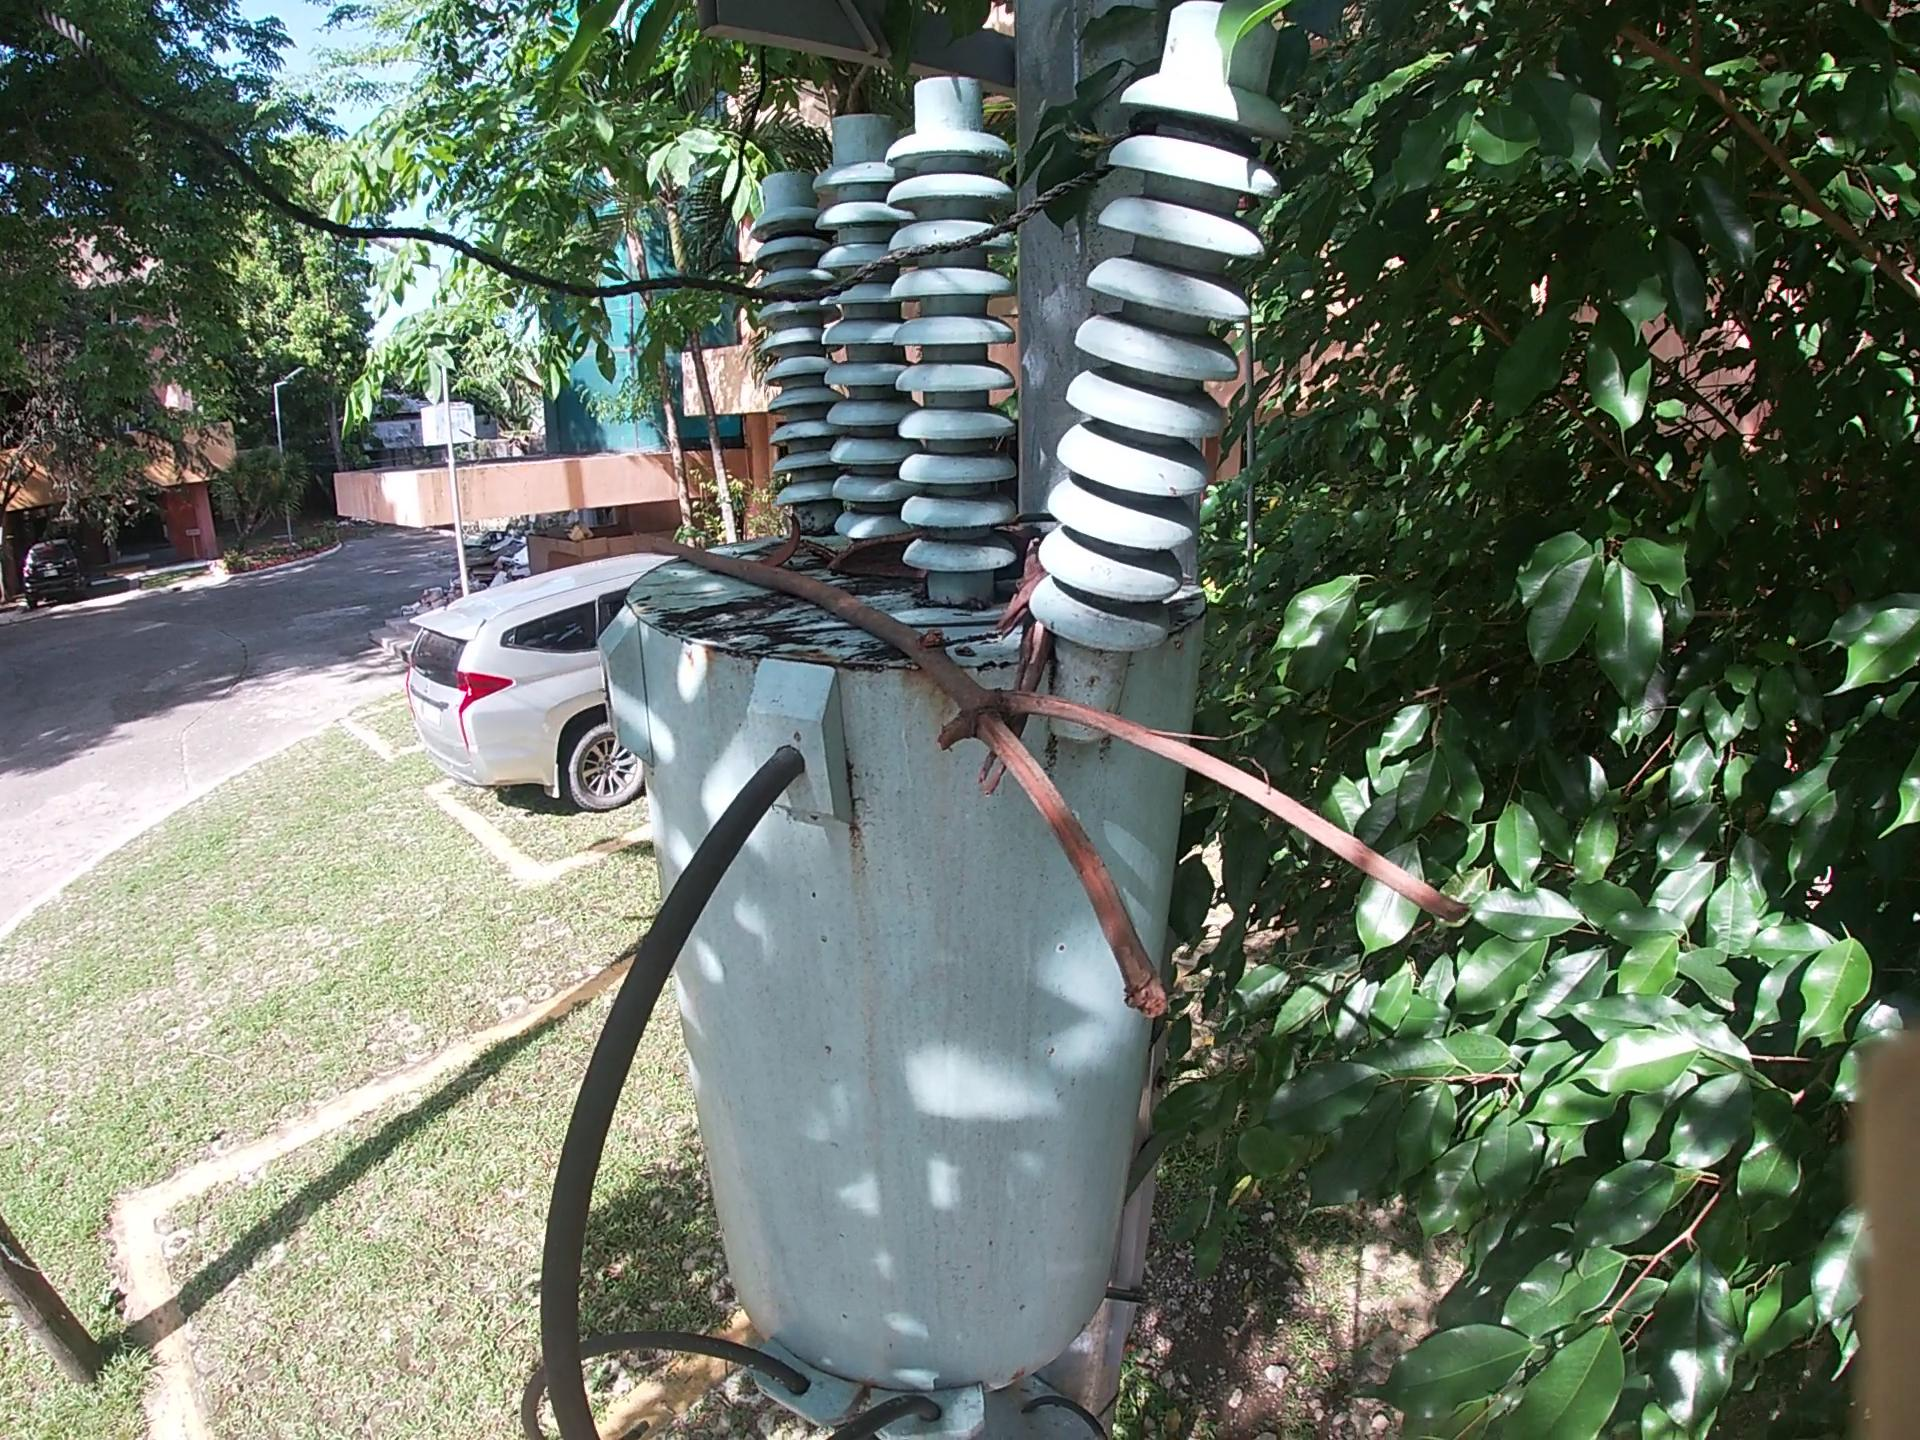mahogany fruit: (816, 540, 909, 576), (747, 523, 803, 572)
tree branch: (653, 535, 1507, 1013), (962, 529, 1045, 814), (984, 522, 1051, 551)
